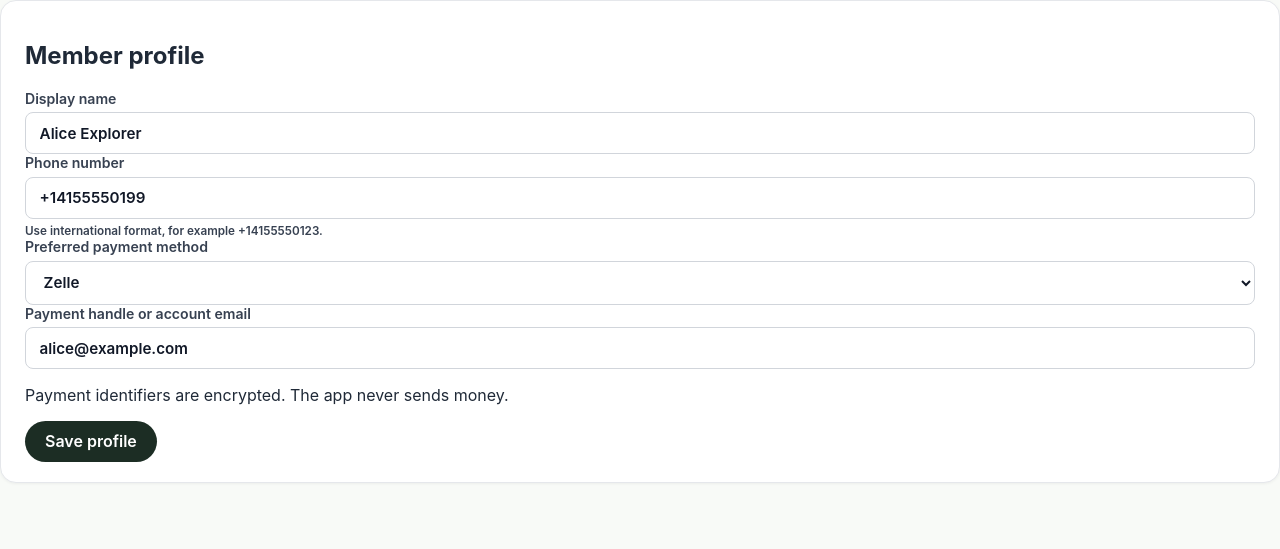
MemberProfileForm › displays existing payment handle in edit mode and preserves it on save
The image size is (1280, 549).
Expected: the field labelled "Payment handle or account email" holds "alice@example.com", [25,327,1255,369]
What coordinates should you click on to do the following:
click the button "Save profile"
I would click on:
 (91, 441)
Its box is [25,421,157,462].
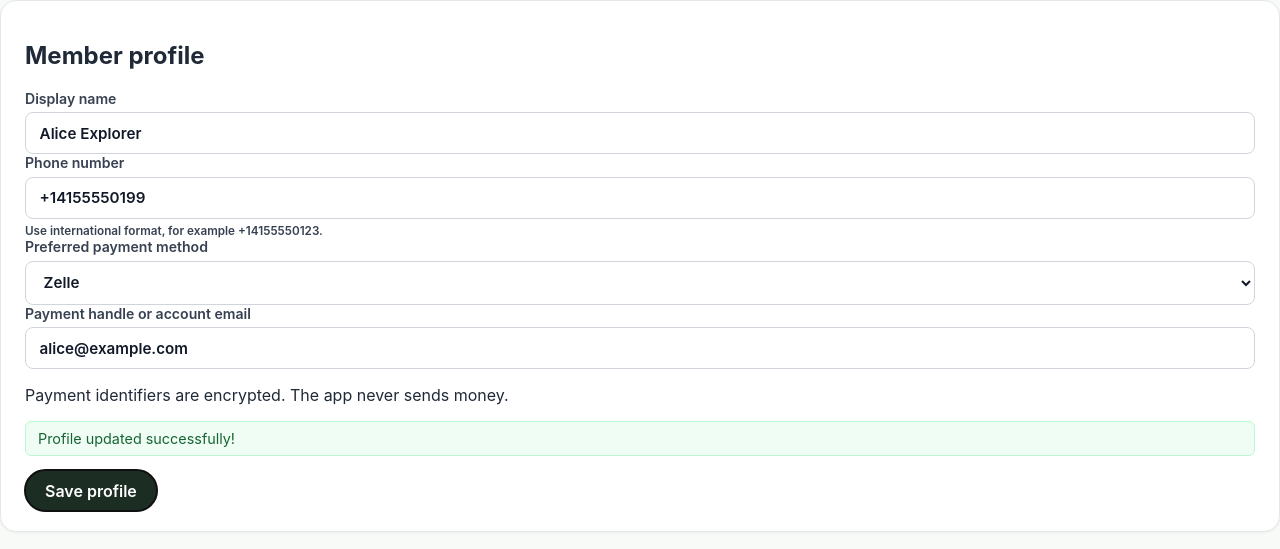
Expected: the field labelled "Payment handle or account email" holds "alice@example.com", [25,327,1255,369]
Result: the text "Profile updated successfully!" is shown at [25,421,1255,456]
